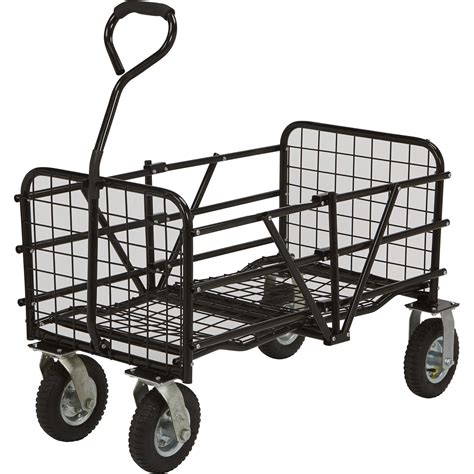Carts: (14, 3, 460, 474)
